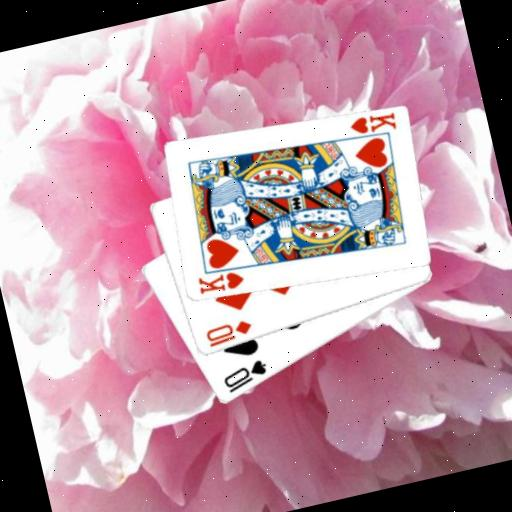10D: (201, 316, 255, 350)
10S: (217, 355, 272, 396)
KH: (194, 265, 248, 299), (345, 107, 399, 141)
